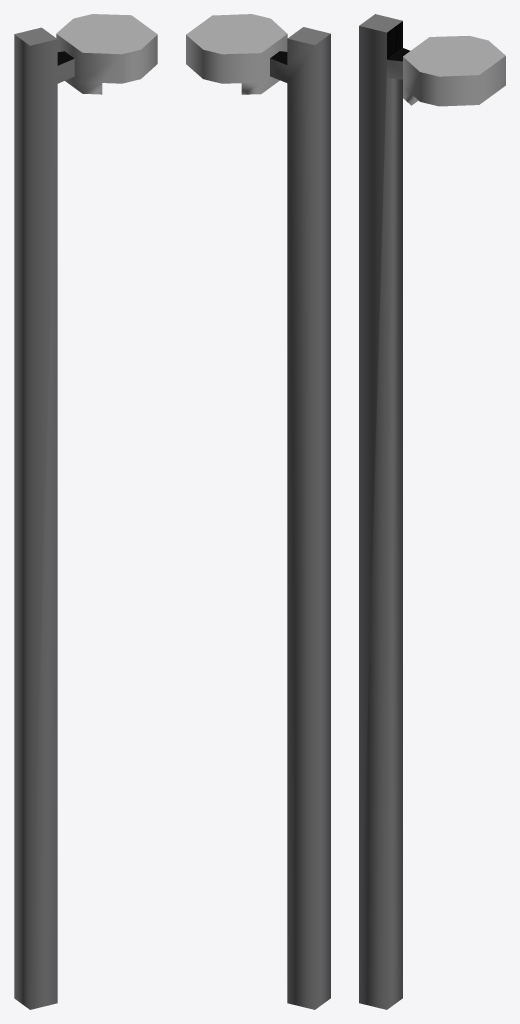
The model's file is streetlampV4.fbx.
3 renders of one model, left to right at view 1: azimuth 30°, elevation 25°; view 2: azimuth 150°, elevation 25°; view 3: azimuth 330°, elevation 25°, orthographic.
Visible parts, largest first — view 1: pCube17; view 2: pCube17; view 3: pCube17.
Boxes of the visible parts, <box> form: pCube17: <box>14,14,157,1009</box>; pCube17: <box>186,14,330,1009</box>; pCube17: <box>359,14,505,1009</box>.
Size of the model in its own units: 0.5348 by 4 by 0.3666.
